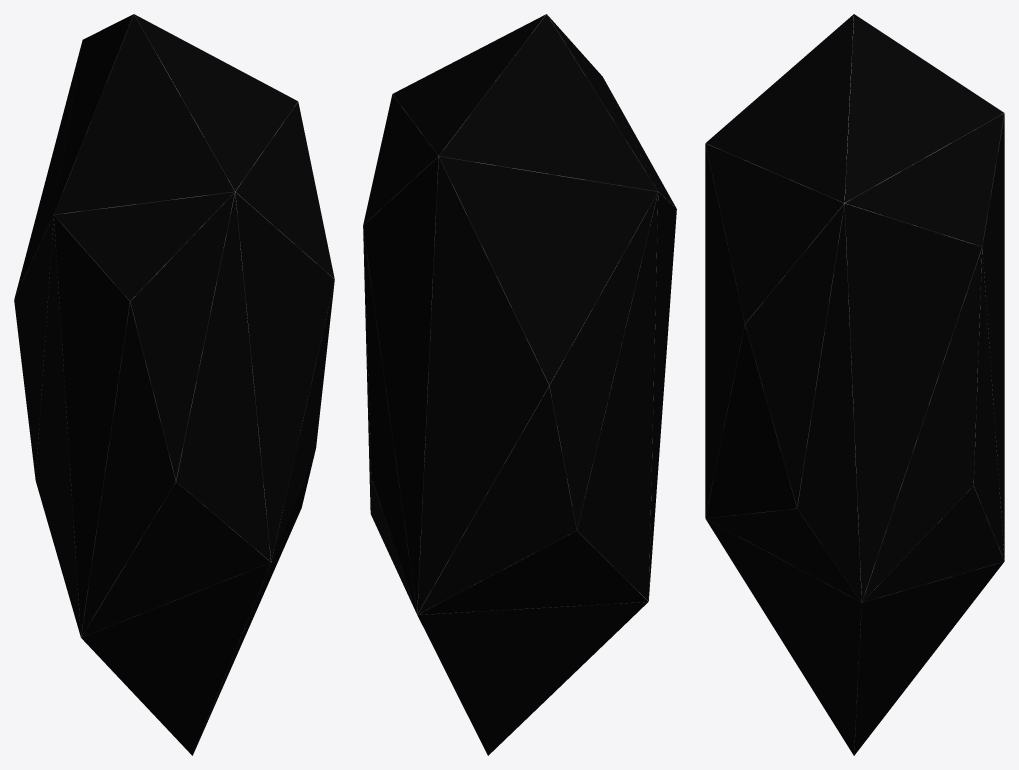
The model's file is CrystalWhole-EdgeWear03.glb.
3 views of the same model, side by side, from view 1: azimuth 30°, elevation 25°; view 2: azimuth 150°, elevation 25°; view 3: azimuth 270°, elevation 25° (orthographic). The views are drawn at different scales.
Parts seen in each view (by area): view 1: CrystalWhole_EdgeWear01; view 2: CrystalWhole_EdgeWear01; view 3: CrystalWhole_EdgeWear01.
Boxes of the visible parts, x1,y1,x2,y2 form: CrystalWhole_EdgeWear01: (14,14,334,755); CrystalWhole_EdgeWear01: (363,14,676,755); CrystalWhole_EdgeWear01: (705,14,1004,755).
Bounding box in the file's own units: 1.48 × 3.99 × 1.51.
Materials: 1 (1 with a texture image).
